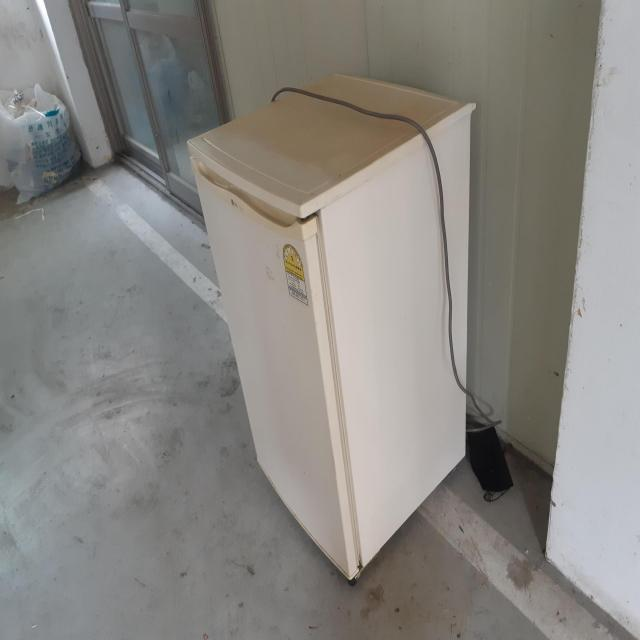refrigerator: (184, 69, 473, 587)
